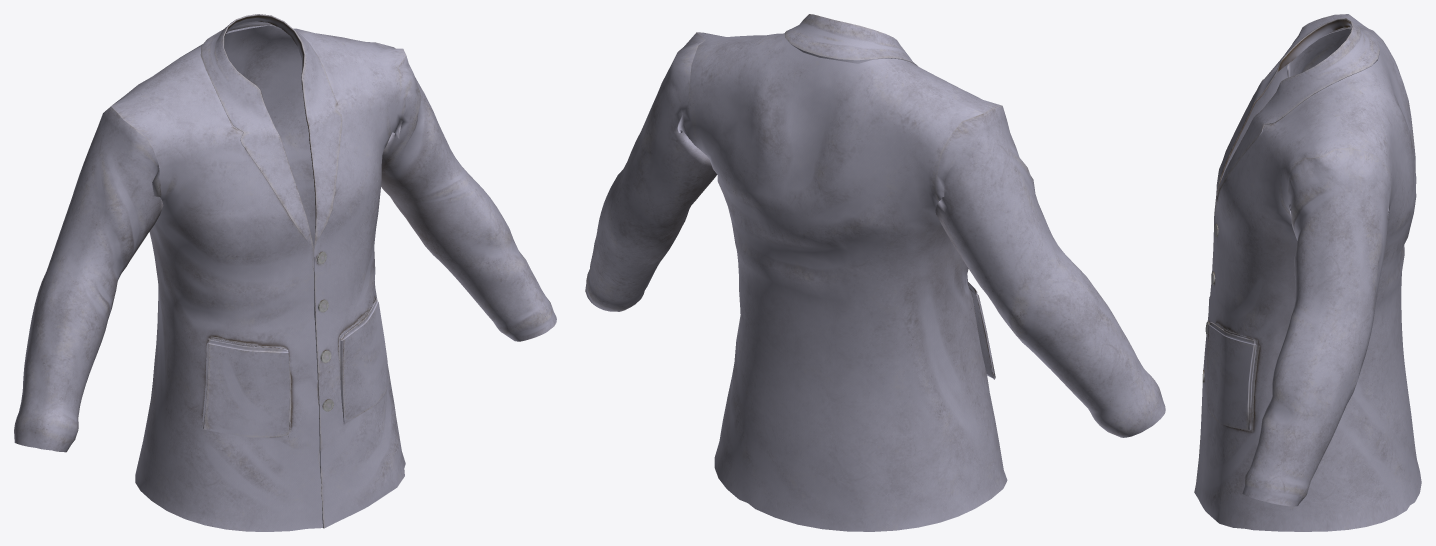
The model's file is önlükkiyafet.glb.
3 views of the same model, side by side, from view 1: azimuth 30°, elevation 25°; view 2: azimuth 150°, elevation 25°; view 3: azimuth 270°, elevation 25° (orthographic). The views are drawn at different scales.
Parts seen in each view (by area): view 1: Object_2; view 2: Object_2; view 3: Object_2.
Part boxes in pixels (box(x1,y1,x2,y2)): Object_2: box(14, 14, 556, 531); Object_2: box(585, 14, 1165, 531); Object_2: box(1194, 14, 1421, 531).
Bounding box in the file's own units: 4.18 × 3.41 × 1.51.
1 material, 1 textured.
